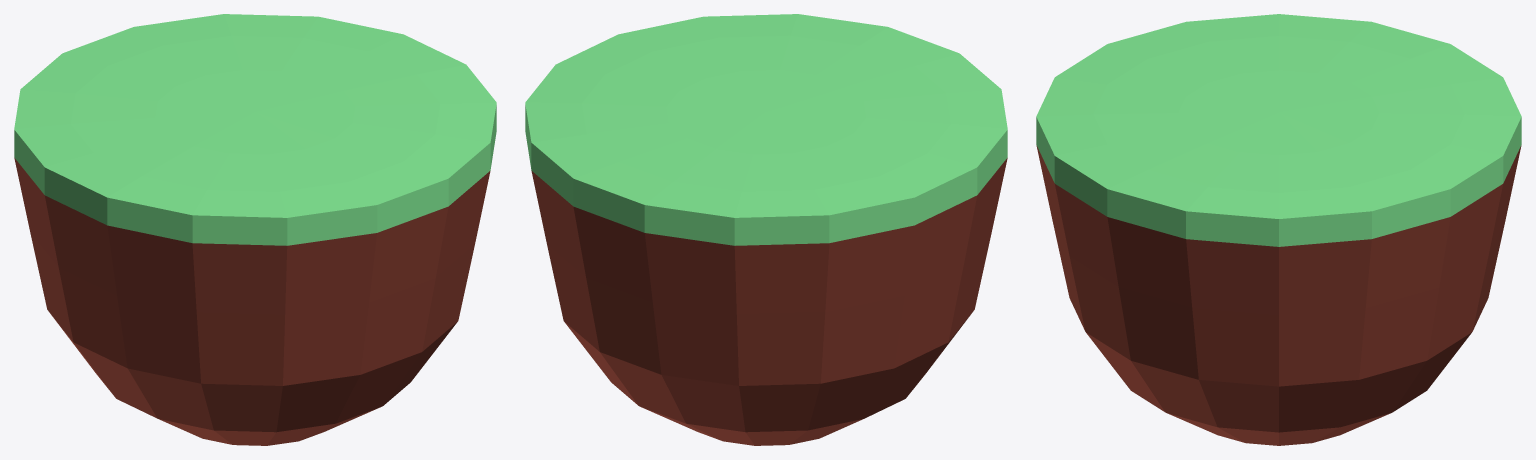
The model's file is sky_island1.fbx.
3 views of the same model, side by side, from view 1: azimuth 30°, elevation 25°; view 2: azimuth 150°, elevation 25°; view 3: azimuth 270°, elevation 25° (orthographic).
Visible parts, largest first — view 1: Sphere; view 2: Sphere; view 3: Sphere.
Boxes of the visible parts, x1,y1,x2,y2 form: Sphere: (14,14,496,445); Sphere: (525,14,1007,445); Sphere: (1036,14,1521,445).
Bounding box in the file's own units: 214 × 152 × 214.
